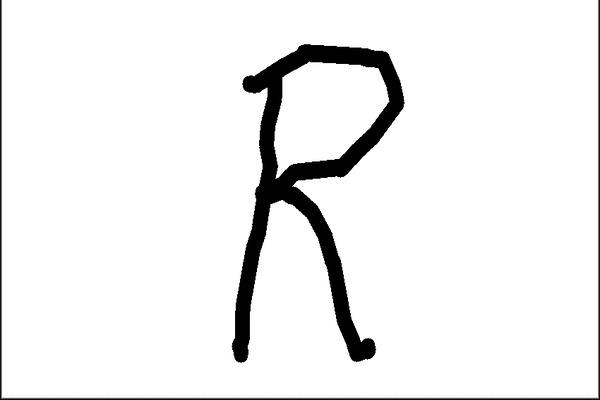R: (227, 23, 400, 375)
